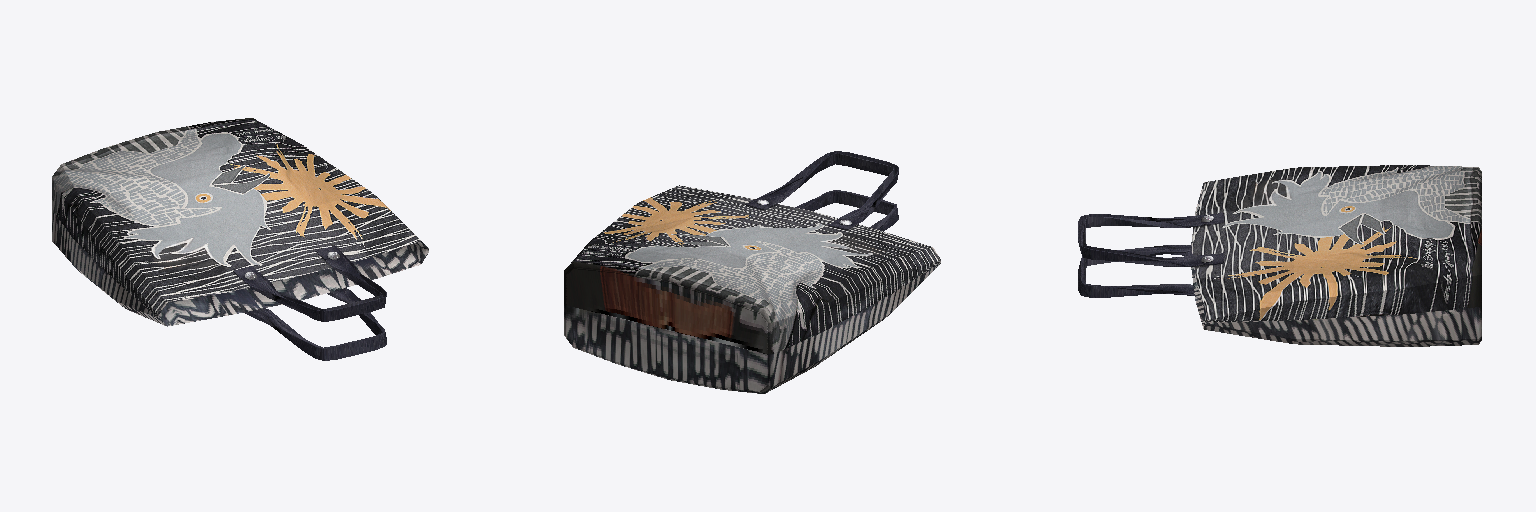
3 renders of one model, left to right at view 1: azimuth 30°, elevation 25°; view 2: azimuth 150°, elevation 25°; view 3: azimuth 270°, elevation 25°, orthographic.
Visible parts, largest first — view 1: TulisanTasAyam1_TulisanTasAyam1_material; view 2: TulisanTasAyam1_TulisanTasAyam1_material; view 3: TulisanTasAyam1_TulisanTasAyam1_material.
Part boxes in pixels (left/top/right/bottom): TulisanTasAyam1_TulisanTasAyam1_material: left=52, top=118, right=428, bottom=360; TulisanTasAyam1_TulisanTasAyam1_material: left=564, top=151, right=940, bottom=393; TulisanTasAyam1_TulisanTasAyam1_material: left=1078, top=165, right=1481, bottom=346.
Bounding box in the file's own units: 149 × 54.07 × 192.
Materials: 1 (1 with a texture image).